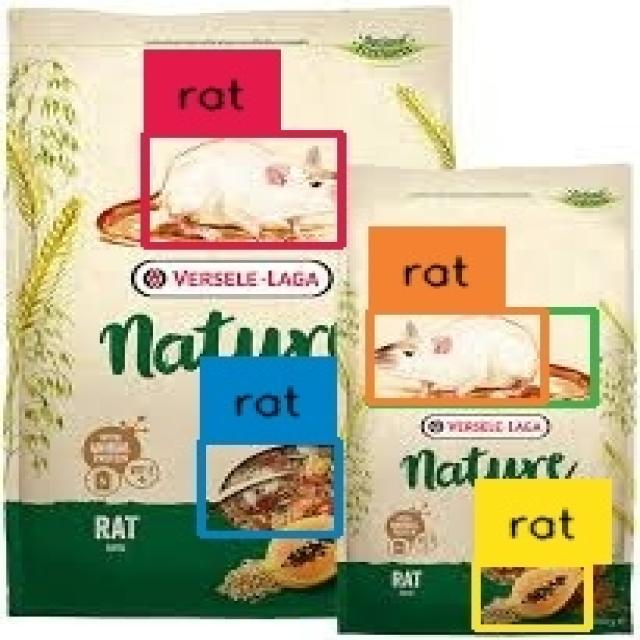rat: (144, 134, 340, 246), (368, 311, 594, 404), (370, 311, 545, 402), (201, 442, 339, 536), (476, 562, 589, 627)
